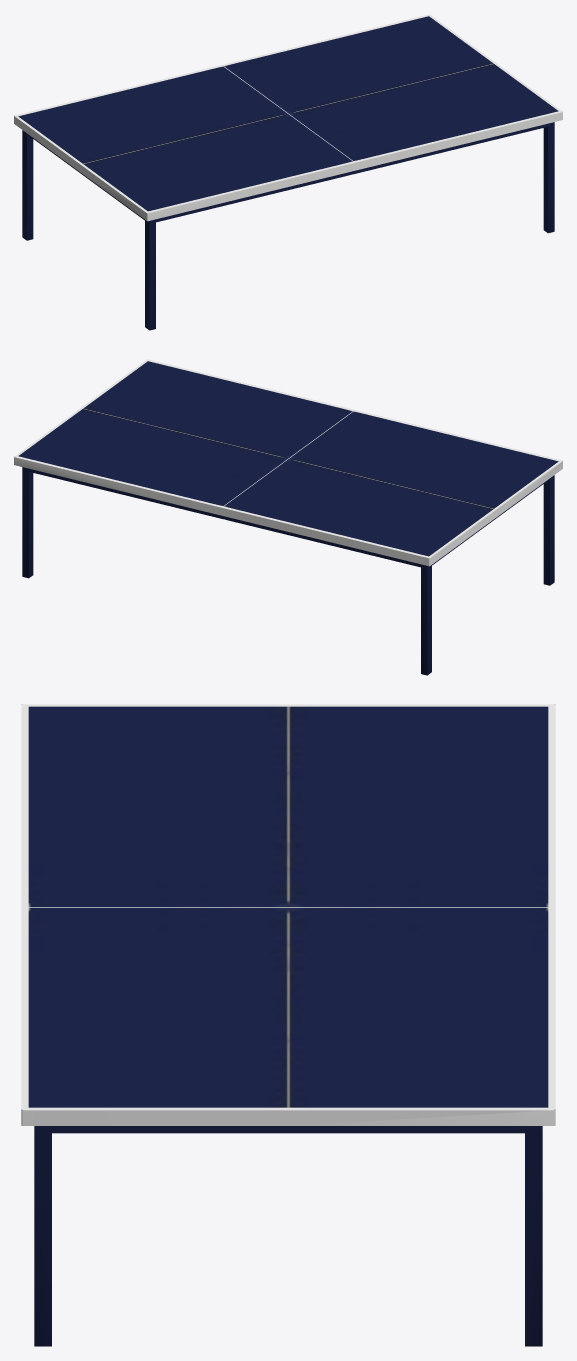
File: pingpong.d9388e5a.gltf
3 views of the same model, one above another, from view 1: azimuth 30°, elevation 25°; view 2: azimuth 150°, elevation 25°; view 3: azimuth 270°, elevation 25° (orthographic). The views are drawn at different scales.
Parts seen in each view (by area): view 1: 立方体; view 2: 立方体; view 3: 立方体.
Boxes of the visible parts, left/top/right/bottom form: 立方体: left=14, top=14, right=562, bottom=330; 立方体: left=14, top=359, right=562, bottom=675; 立方体: left=21, top=704, right=555, bottom=1346.
Bounding box in the file's own units: 274 × 76.25 × 152.
Materials: 1 (1 with a texture image).
